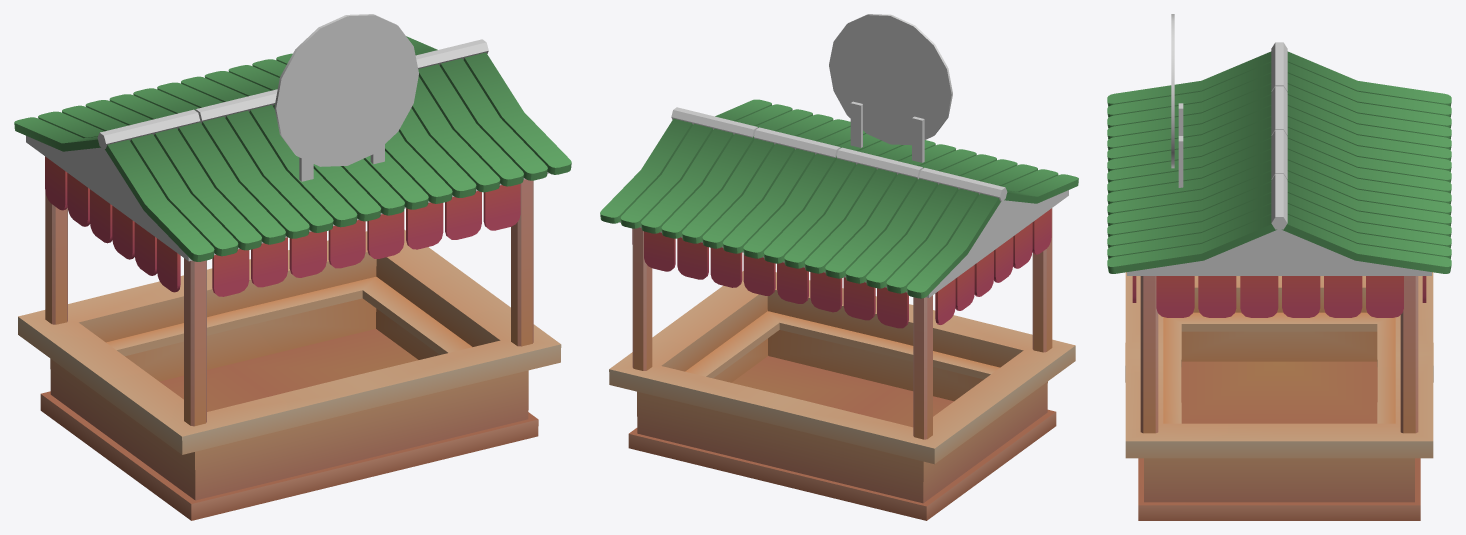
Rendered from diner_house (3).fbx.
The picture shows the model from 3 angles, left to right: view 1: azimuth 30°, elevation 25°; view 2: azimuth 150°, elevation 25°; view 3: azimuth 270°, elevation 25°; orthographic projection. The views are drawn at different scales.
Visible parts, largest first — view 1: diner_house, roof tiles, signboard, checkboxes2, beams, checkboxes1, roof, roof divider; view 2: diner_house, roof tiles, signboard, checkboxes2, beams, roof divider, checkboxes1, roof, basis of the signage; view 3: diner_house, roof tiles, checkboxes1, roof, beams, roof divider, signboard, basis of the signage.
Part boxes in pixels (left/top/right/bottom): diner_house: left=18, top=229, right=561, bottom=520; roof tiles: left=14, top=36, right=571, bottom=261; signboard: left=274, top=14, right=418, bottom=166; checkboxes2: left=212, top=184, right=520, bottom=296; beams: left=45, top=179, right=533, bottom=426; checkboxes1: left=45, top=156, right=180, bottom=292; roof: left=26, top=136, right=549, bottom=261; roof divider: left=97, top=39, right=488, bottom=149; diner_house: left=609, top=271, right=1075, bottom=520; roof tiles: left=600, top=99, right=1078, bottom=298; signboard: left=829, top=14, right=952, bottom=145; checkboxes2: left=644, top=231, right=908, bottom=328; beams: left=632, top=208, right=1052, bottom=439; roof divider: left=671, top=107, right=1007, bottom=201; checkboxes1: left=632, top=208, right=1051, bottom=324; roof: left=619, top=190, right=1068, bottom=297; basis of the signage: left=850, top=101, right=924, bottom=162; diner_house: left=1125, top=272, right=1433, bottom=520; roof tiles: left=1107, top=51, right=1451, bottom=273; checkboxes1: left=1156, top=276, right=1403, bottom=317; roof: left=1127, top=229, right=1431, bottom=275; beams: left=1140, top=276, right=1418, bottom=433; roof divider: left=1271, top=42, right=1287, bottom=229; signboard: left=1171, top=14, right=1174, bottom=168; basis of the signage: left=1178, top=103, right=1183, bottom=187.
Size of the model in its own units: 1317 by 1471 by 1091.
